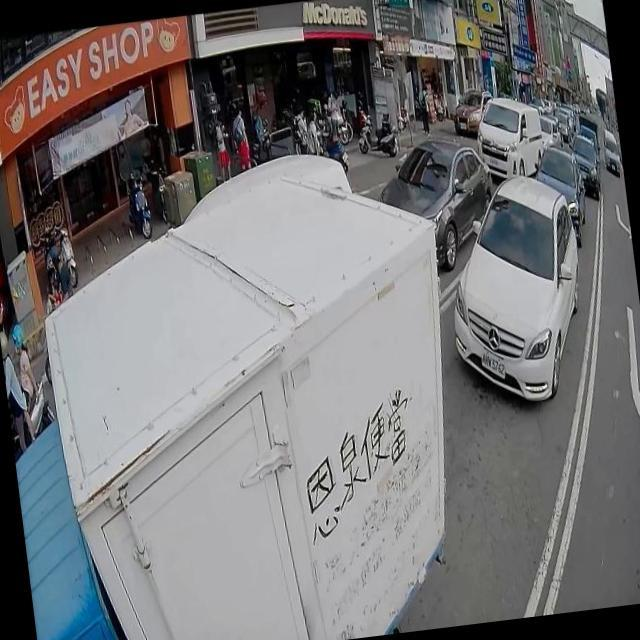person: (10, 322, 48, 440), (0, 325, 30, 452), (44, 238, 70, 302), (228, 103, 252, 172), (213, 113, 232, 182), (325, 89, 343, 144), (302, 110, 322, 157), (292, 111, 310, 155), (416, 85, 430, 134), (225, 94, 239, 120)
